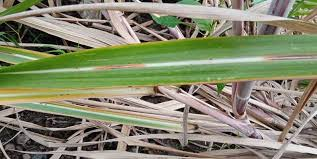Red-Rot: (260, 49, 317, 65), (91, 61, 155, 71)
